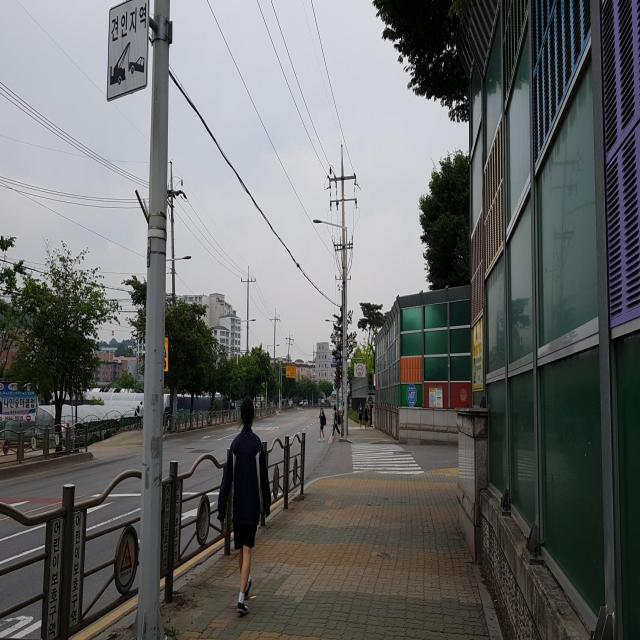횡단보도: (351, 440, 424, 475)
